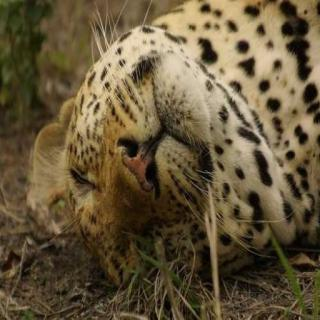-: (47, 0, 320, 293)
